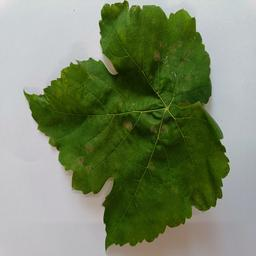Powdery-Mildew: (145, 122, 177, 167), (76, 139, 100, 174), (165, 61, 191, 90), (155, 172, 184, 197), (119, 115, 135, 132), (144, 42, 160, 58)
